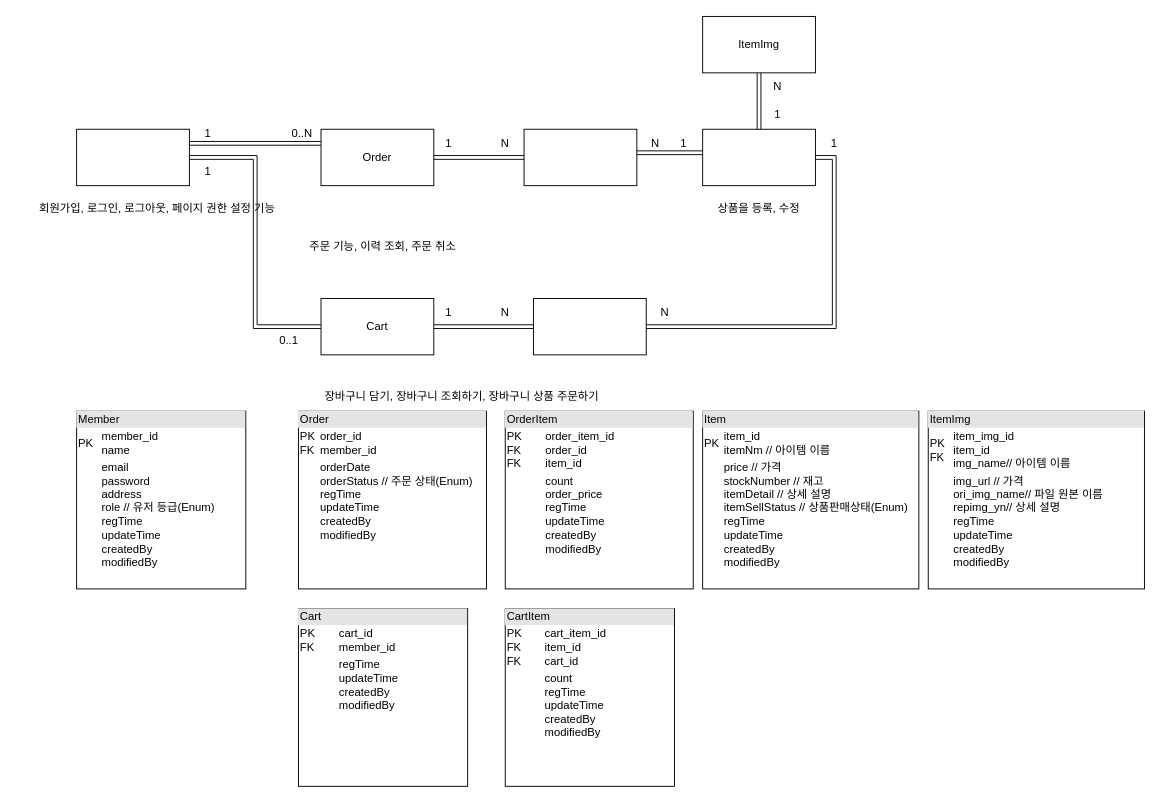
This 1161x803 diagram has some shape labels left out. Here are the shapes that lost their labels. From the top down, the box of each, then its label:
(76, 128, 189, 186): Member
(523, 128, 637, 186): OrderItem
(702, 128, 815, 186): Item
(533, 298, 646, 355): CartItem
